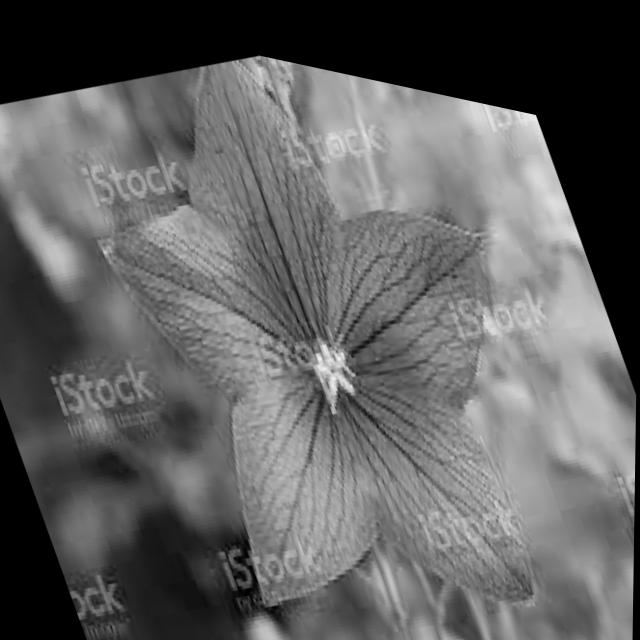Flower: (30, 6, 611, 640)
